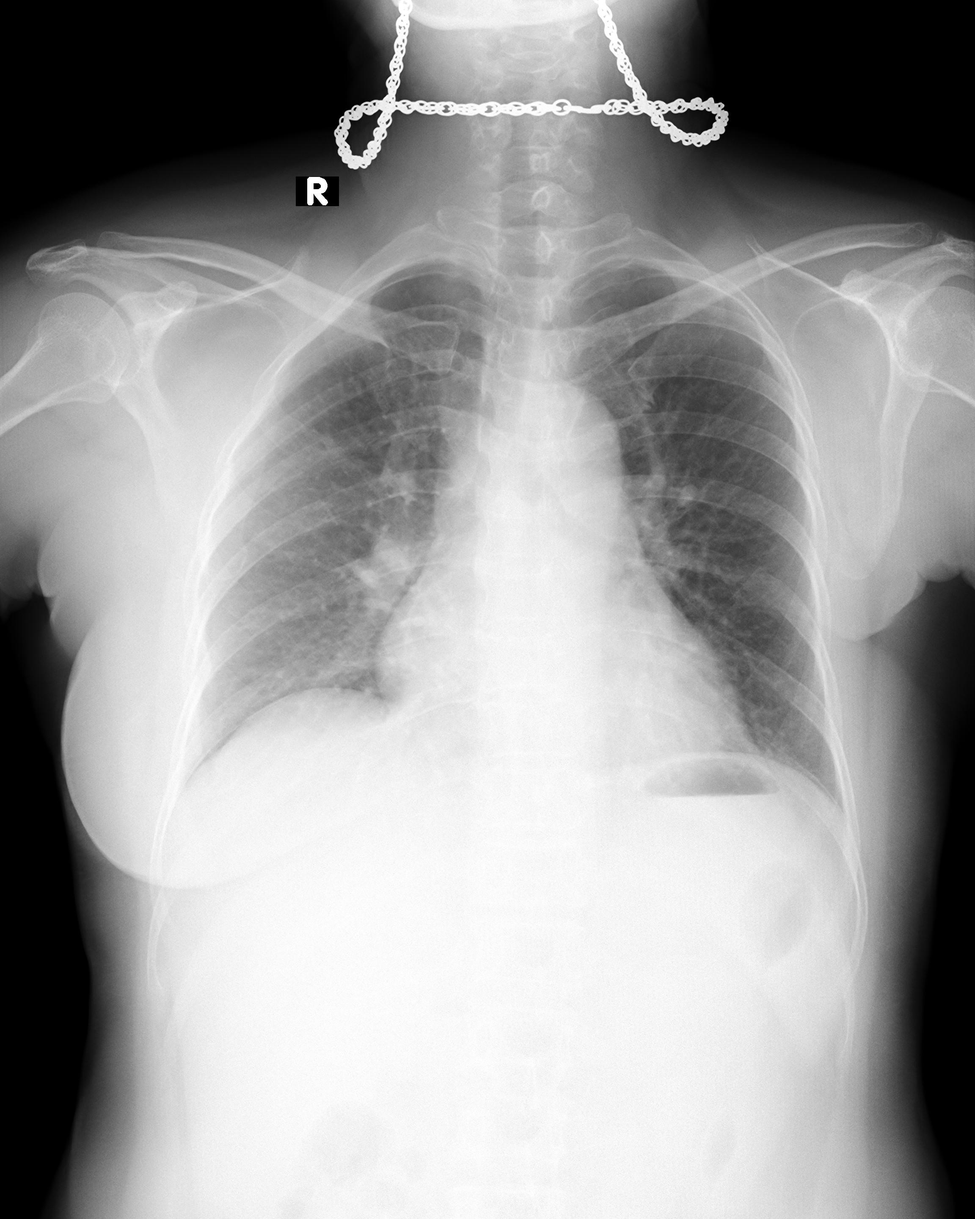Aortic enlargement: (536, 383, 623, 536)
Cardiomegaly: (373, 623, 748, 751)
